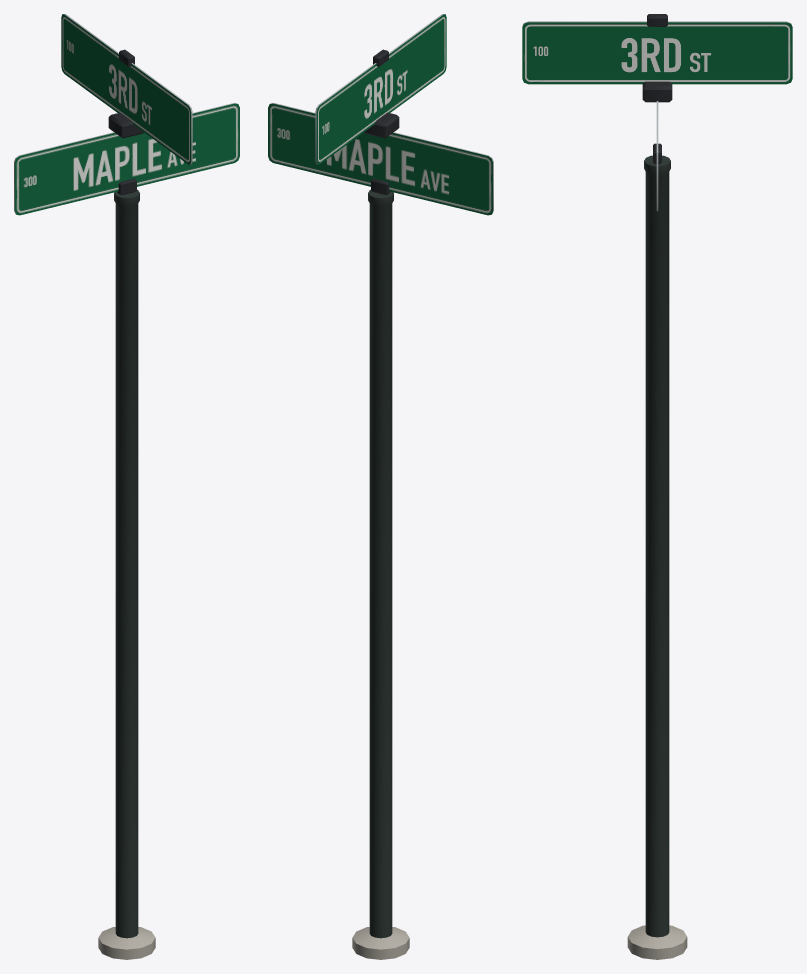
The model's file is SignPost.fbx.
The picture shows the model from 3 angles, left to right: view 1: azimuth 30°, elevation 25°; view 2: azimuth 150°, elevation 25°; view 3: azimuth 270°, elevation 25°; orthographic projection. The views are drawn at different scales.
Parts seen in each view (by area): view 1: SignPost_Mesh; view 2: SignPost_Mesh; view 3: SignPost_Mesh.
Boxes of the visible parts, x1,y1,x2,y2 form: SignPost_Mesh: [14, 14, 239, 959]; SignPost_Mesh: [268, 14, 493, 959]; SignPost_Mesh: [522, 14, 792, 959].
Bounding box in the file's own units: 0.91 × 3.46 × 0.91.
